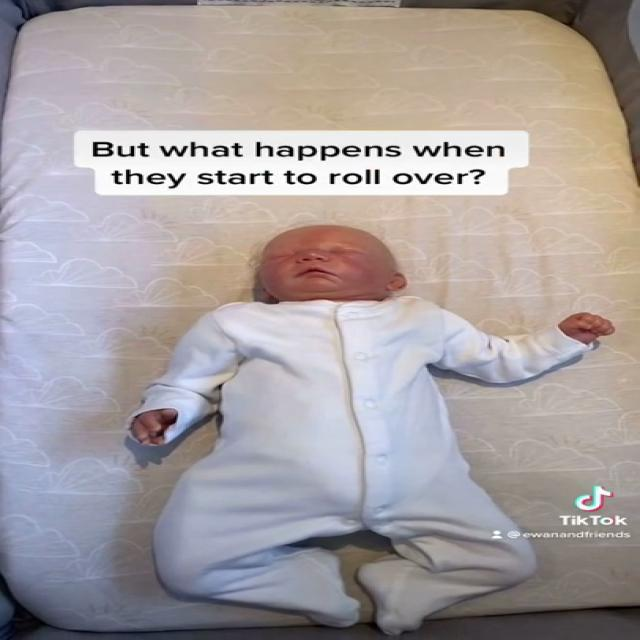baby: (124, 222, 616, 640)
